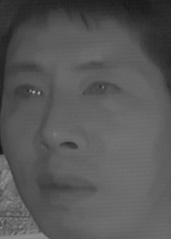eye: (80, 77, 123, 102), (12, 80, 49, 103)
mouth: (35, 167, 98, 207)
